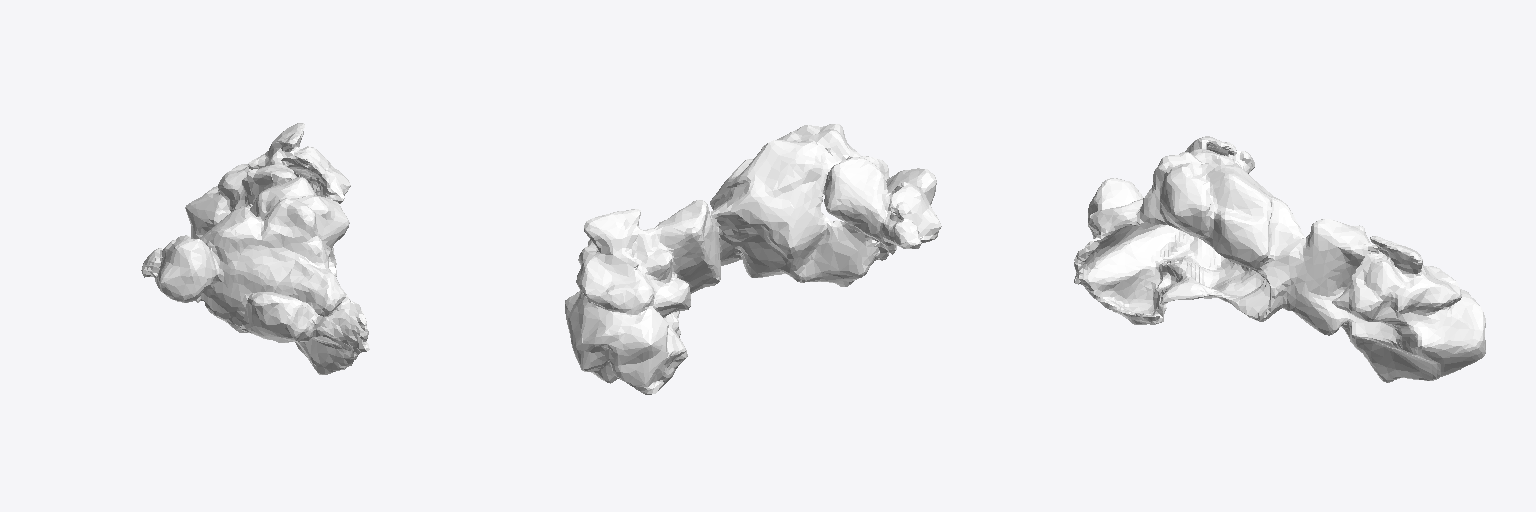
File: hourglassfigure.obj
The picture shows the model from 3 angles: view 1: azimuth 30°, elevation 25°; view 2: azimuth 150°, elevation 25°; view 3: azimuth 270°, elevation 25°; orthographic projection.
Bounding box in the file's own units: 630 × 426 × 836.